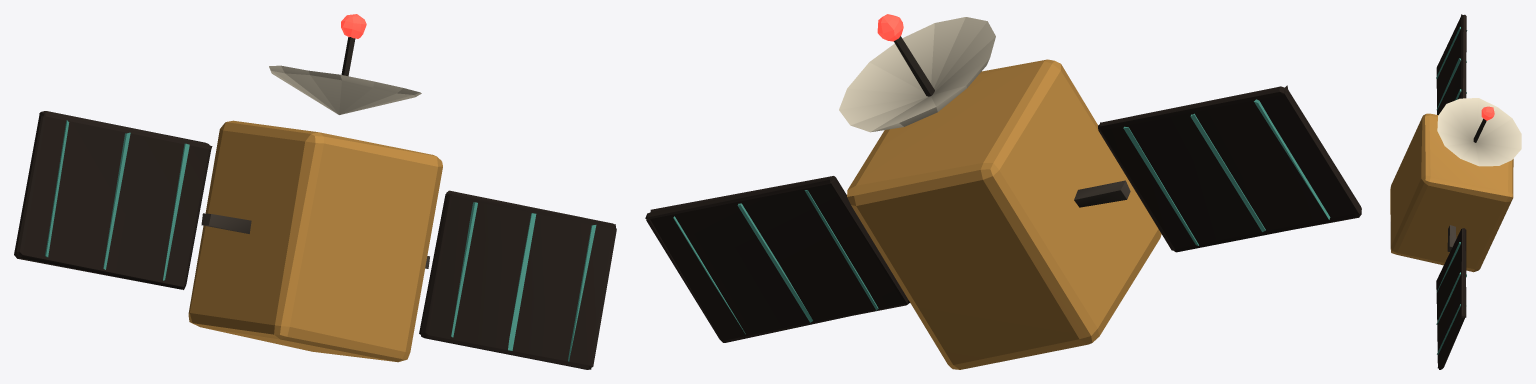
The model's file is find_satellite.glb.
3 renders of one model, left to right at view 1: azimuth 30°, elevation 25°; view 2: azimuth 150°, elevation 25°; view 3: azimuth 270°, elevation 25°, orthographic. The views are drawn at different scales.
Visible parts, largest first — view 1: Satellite; view 2: Satellite; view 3: Satellite.
Boxes of the visible parts, x1,y1,x2,y2 form: Satellite: (14,14,616,369); Satellite: (645,14,1361,369); Satellite: (1390,14,1521,369).
Bounding box in the file's own units: 0.677 × 0.3872 × 0.2186.
